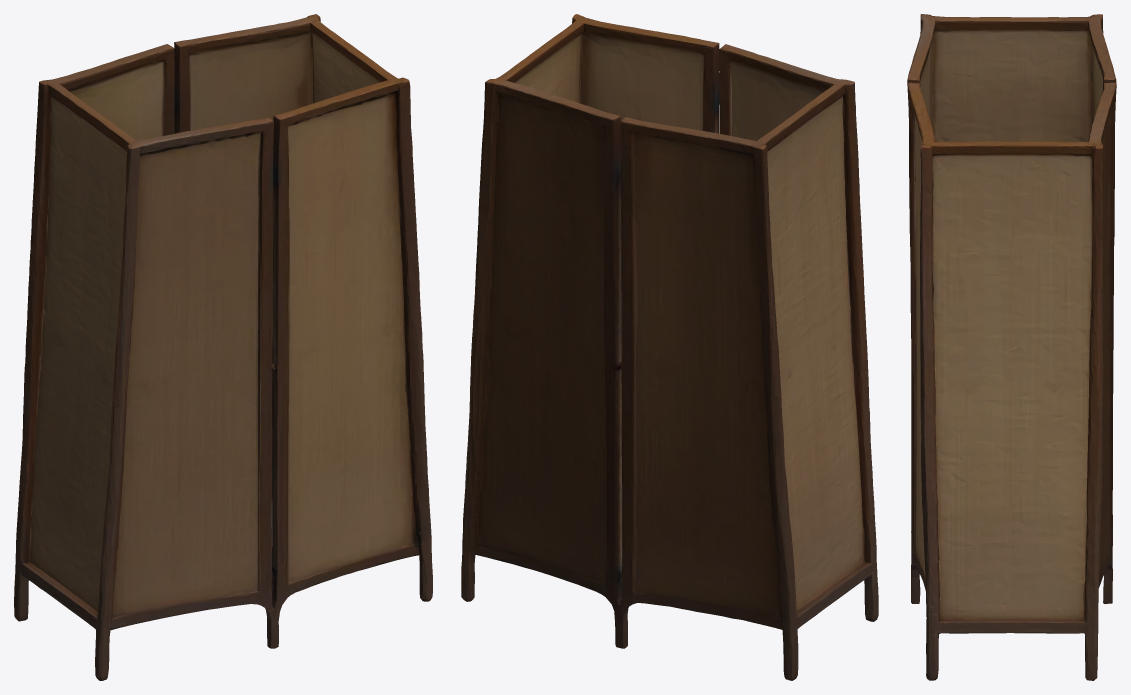
Rendered from ast_a4807b023418.glb.
3 views of the same model, side by side, from view 1: azimuth 30°, elevation 25°; view 2: azimuth 150°, elevation 25°; view 3: azimuth 270°, elevation 25° (orthographic).
Parts seen in each view (by area): view 1: geometry_0; view 2: geometry_0; view 3: geometry_0.
Part boxes in pixels (bbox=[...]): geometry_0: bbox=[14, 14, 432, 680]; geometry_0: bbox=[461, 14, 878, 680]; geometry_0: bbox=[907, 14, 1116, 680].
Size of the model in its own units: 0.6607 by 1 by 0.3635.
1 material, 1 textured.
